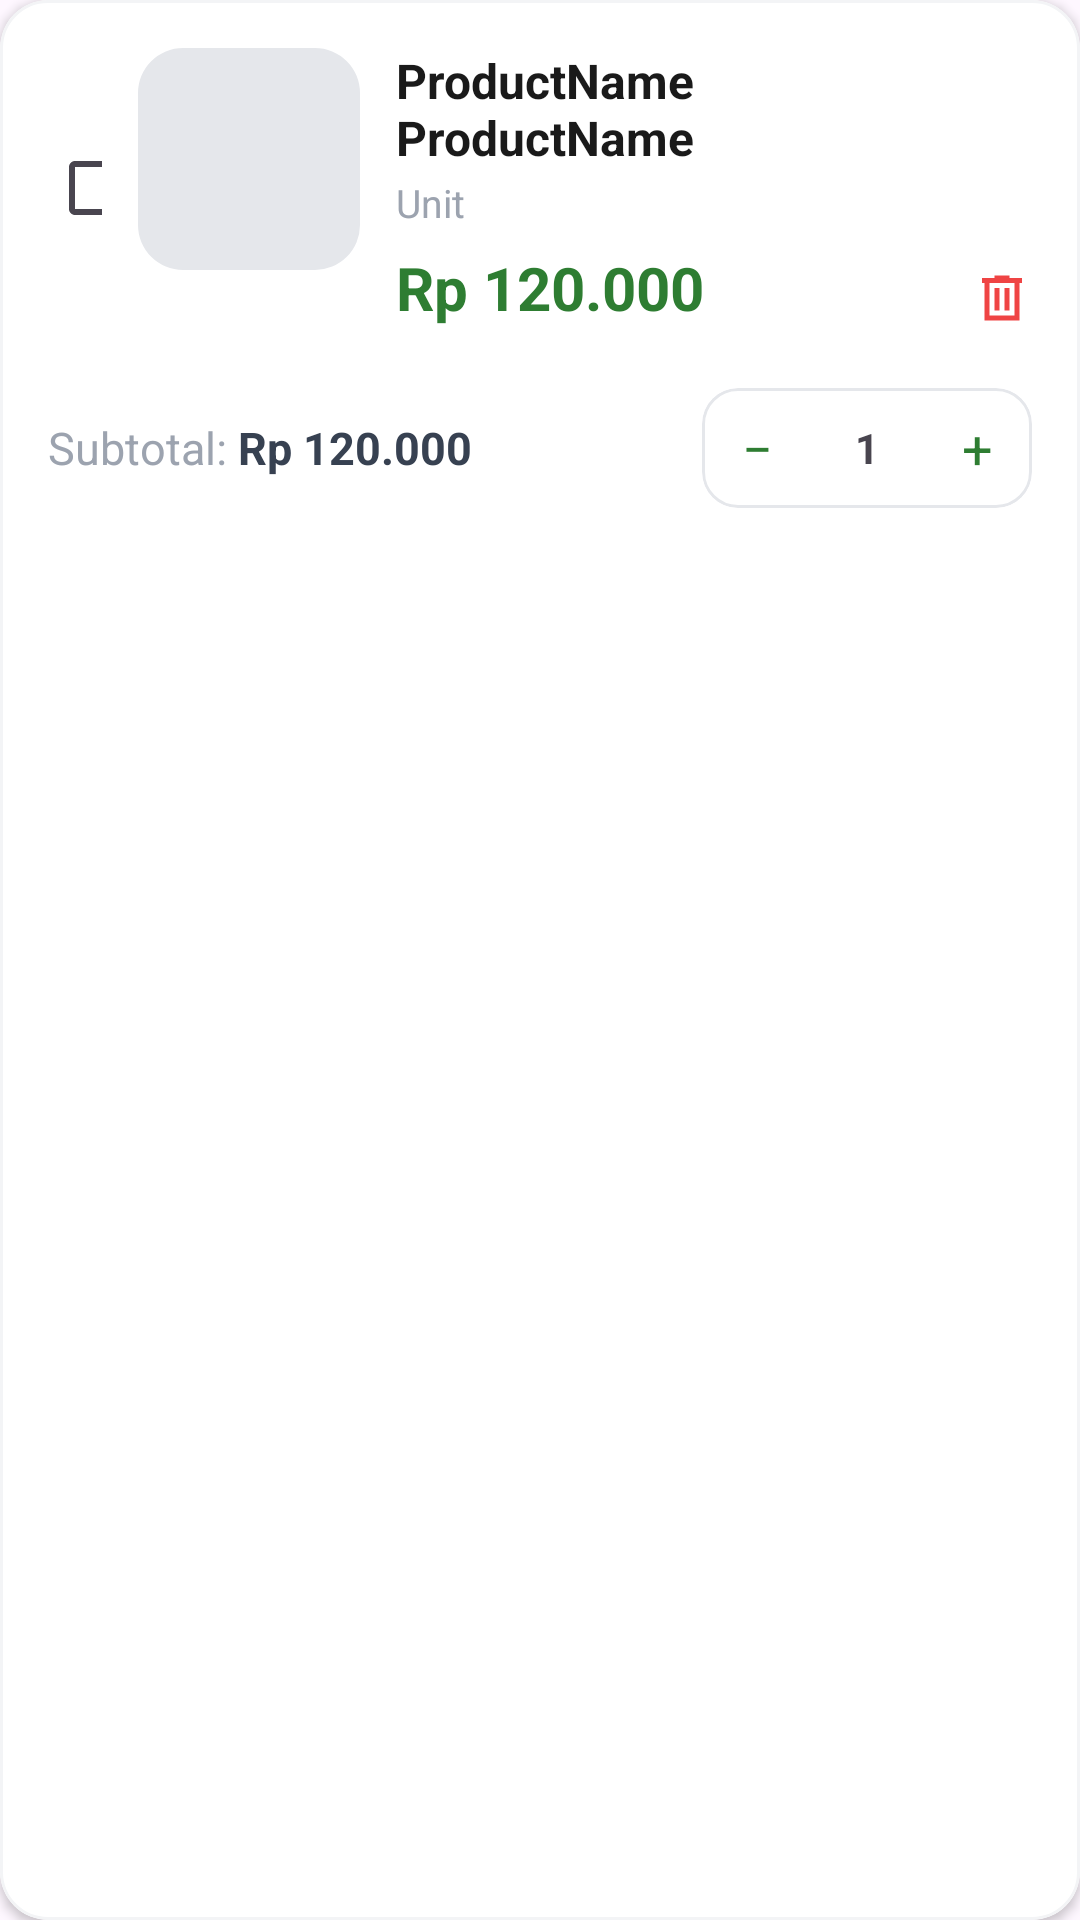

Screen size 1080w x 1920h. Icon name, then its center in pixels as [x,y]:
delete: [1002,298]
